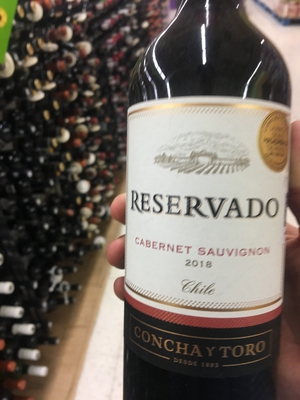reservado cabernet sauvignon: (124, 5, 288, 400)
